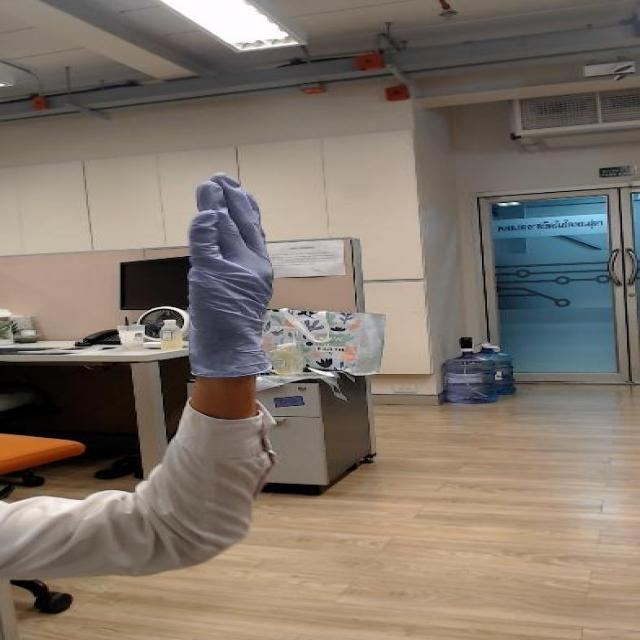Glove: (159, 173, 296, 380)
